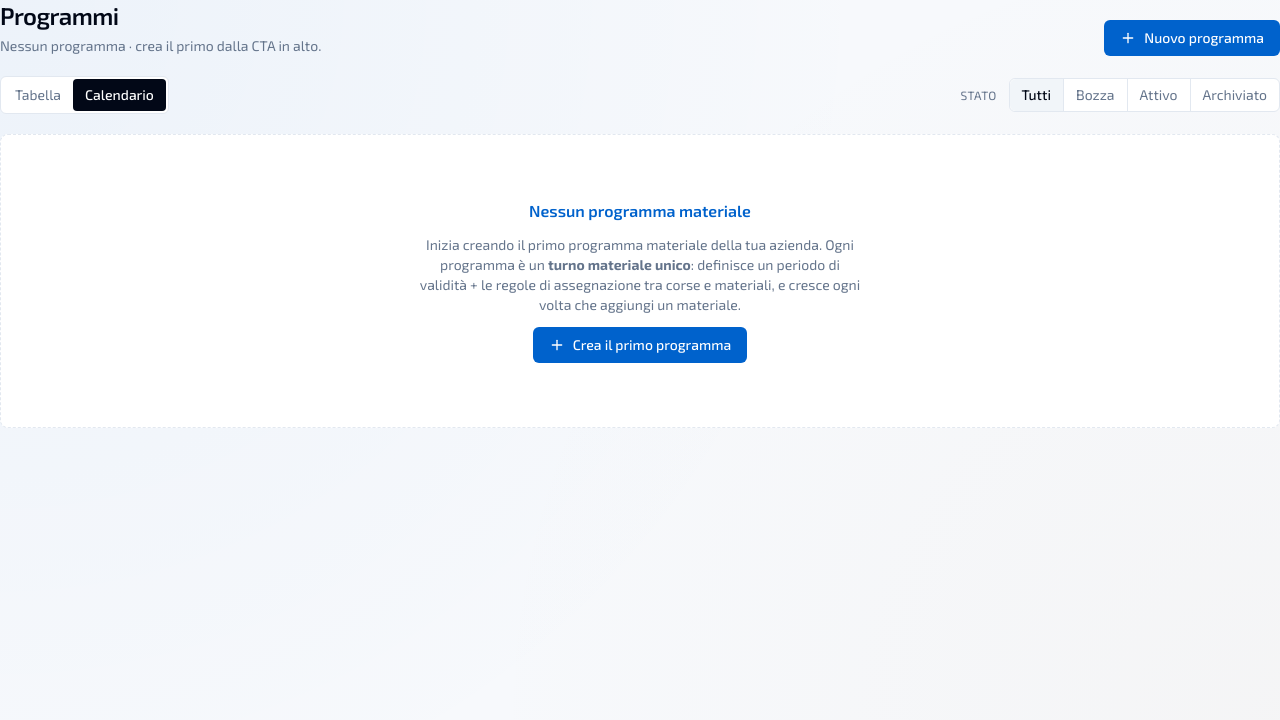
ProgrammiRoute › apre il dialog 'Nuovo programma' al click
The width and height of the screenshot is (1280, 720).
expect the heading "Nessun programma materiale" is shown: met, box [529, 199, 751, 223]
What coordinates should you click on to do the following:
click the button "Nuovo programma"
I would click on:
 (1192, 38)
Its box is [1104, 20, 1279, 56].
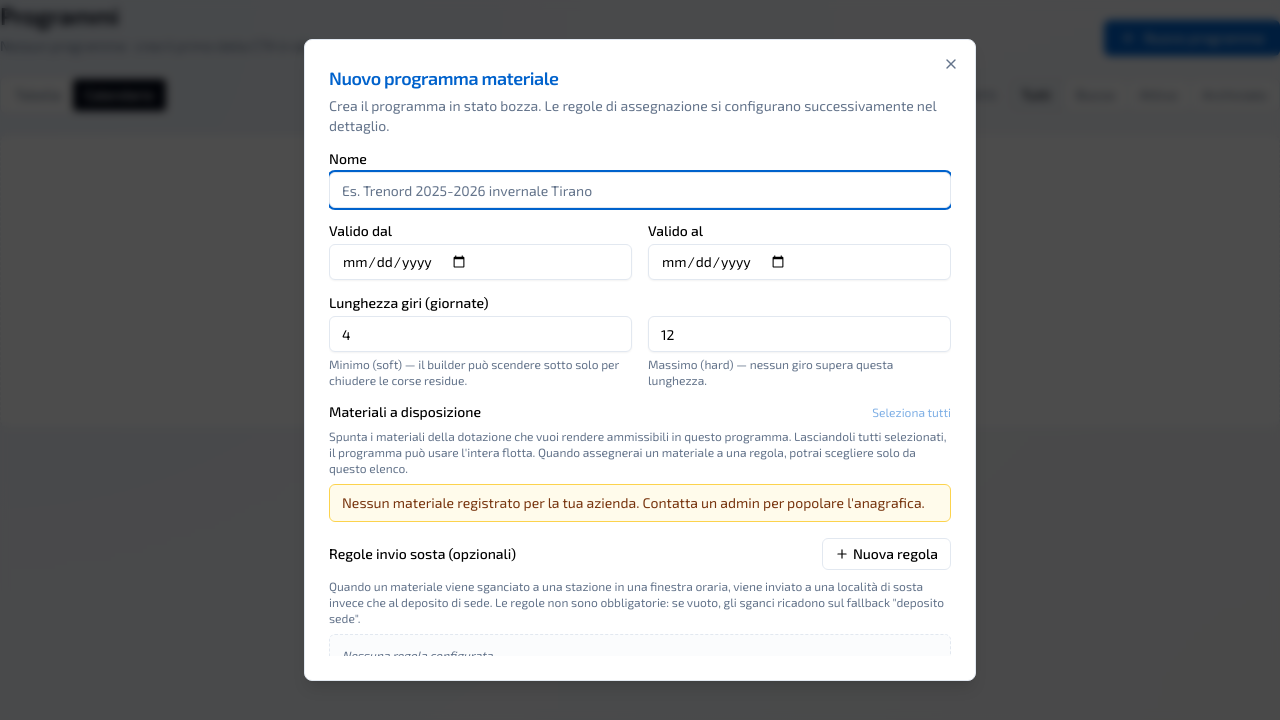
expect the dialog "Nuovo programma materiale" is shown: met, box [304, 39, 976, 681]
